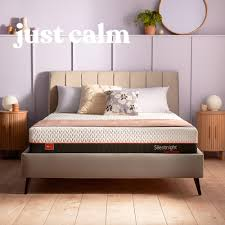bed-matress: (30, 108, 200, 152)
